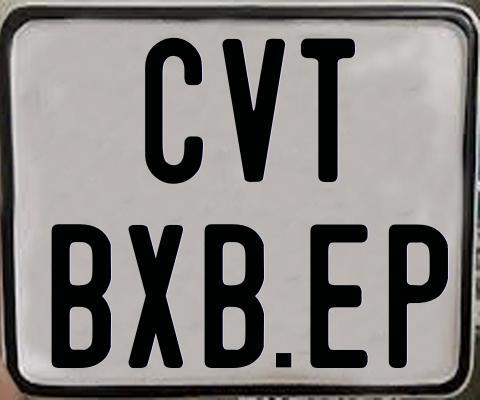B: (50, 221, 116, 366), (201, 221, 265, 368)
C: (145, 37, 207, 186)
E: (309, 223, 372, 371)
P: (387, 223, 446, 370)
T: (298, 37, 354, 184)
V: (221, 37, 287, 185)
X: (126, 222, 187, 367)
